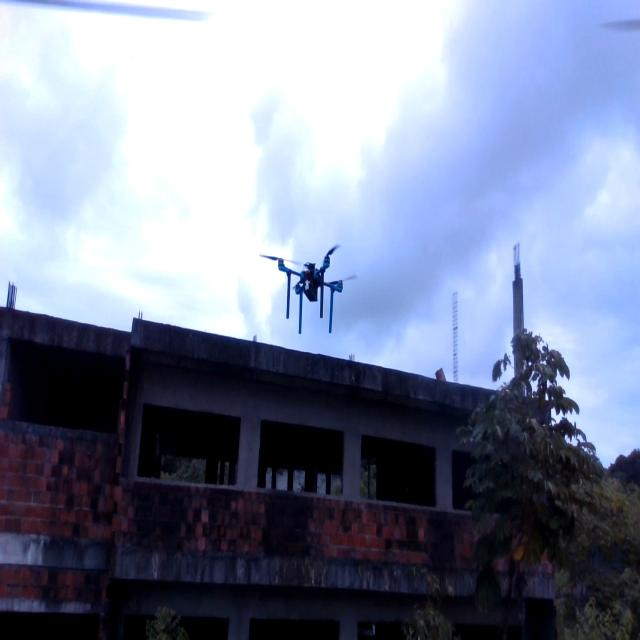-uav-: (249, 228, 374, 342)
